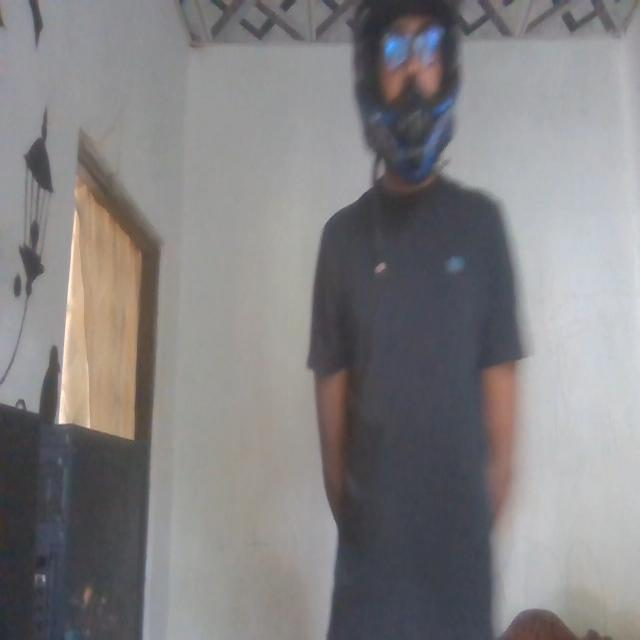Helmet_Wearer: (349, 0, 471, 184)
Person: (304, 0, 532, 640)
